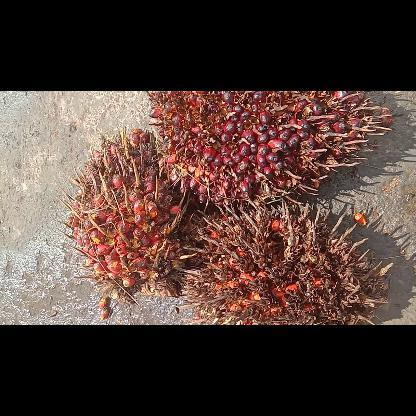TBS masak: (147, 90, 391, 206), (54, 127, 208, 301)
Terlalu masak: (174, 194, 392, 324)
